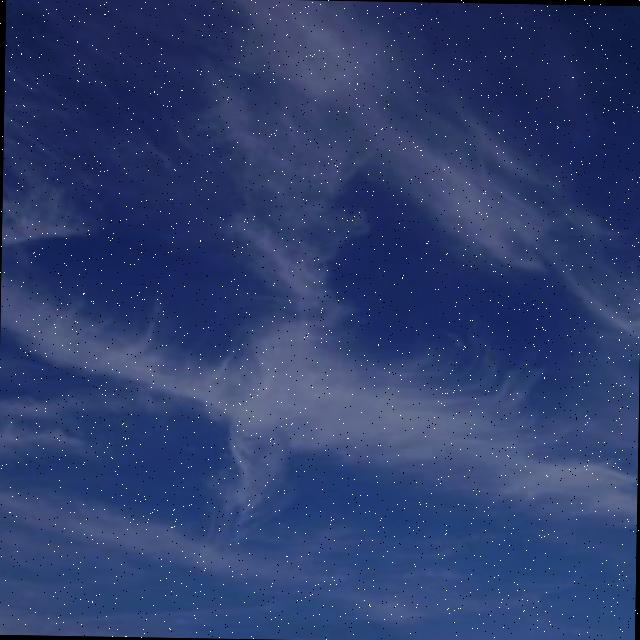Ci: (1, 1, 640, 577)
